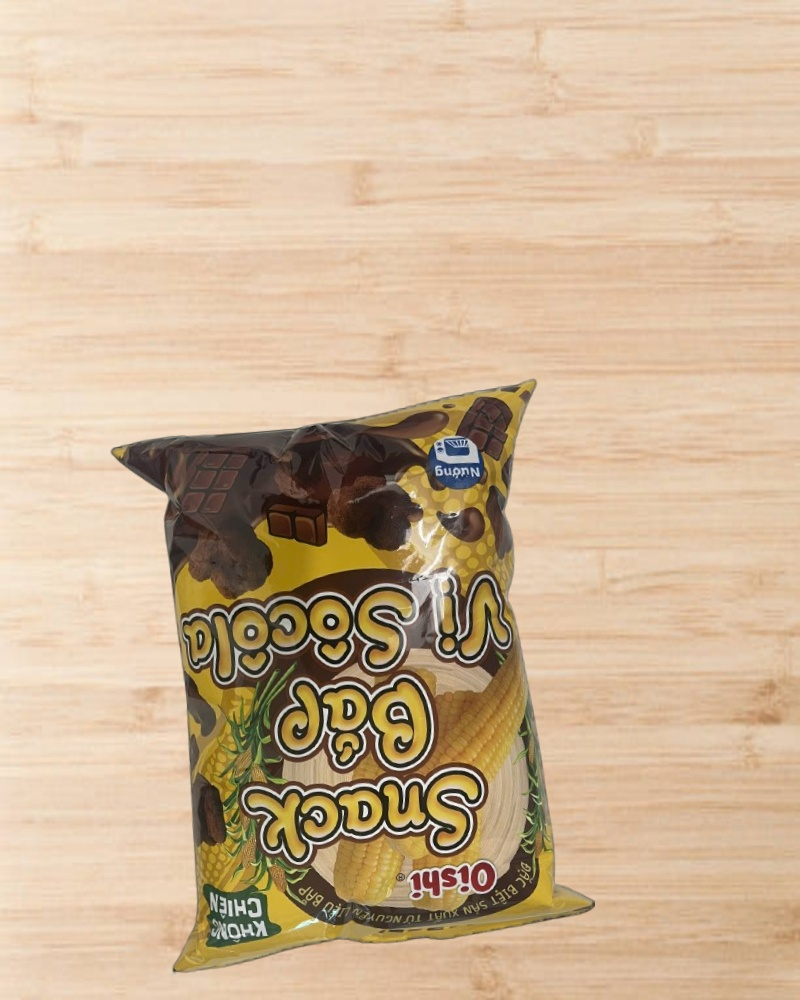Snack socola: (111, 381, 598, 973)
